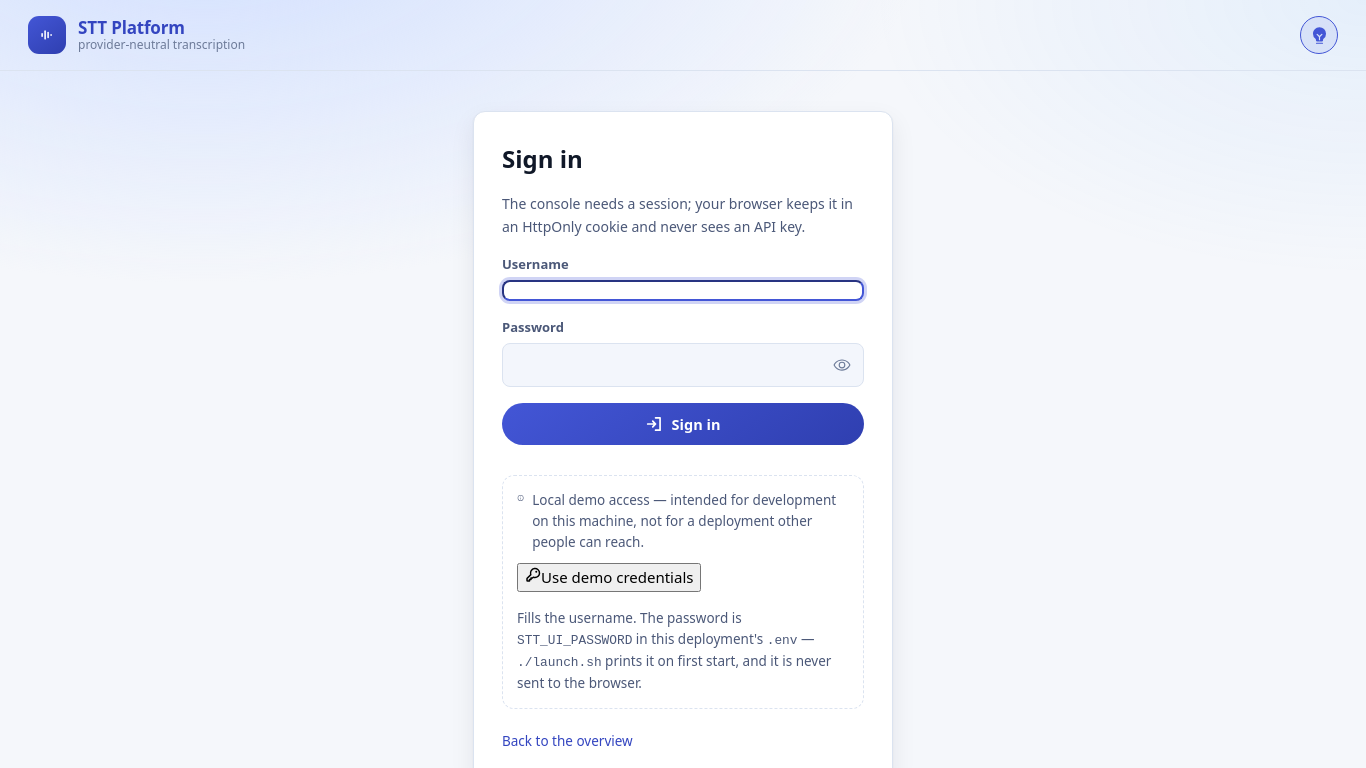
Scenario: a generated password is never filled — the panel says where it lives
Click the button "Use demo credentials" at (609, 577), box [517,563,702,592]
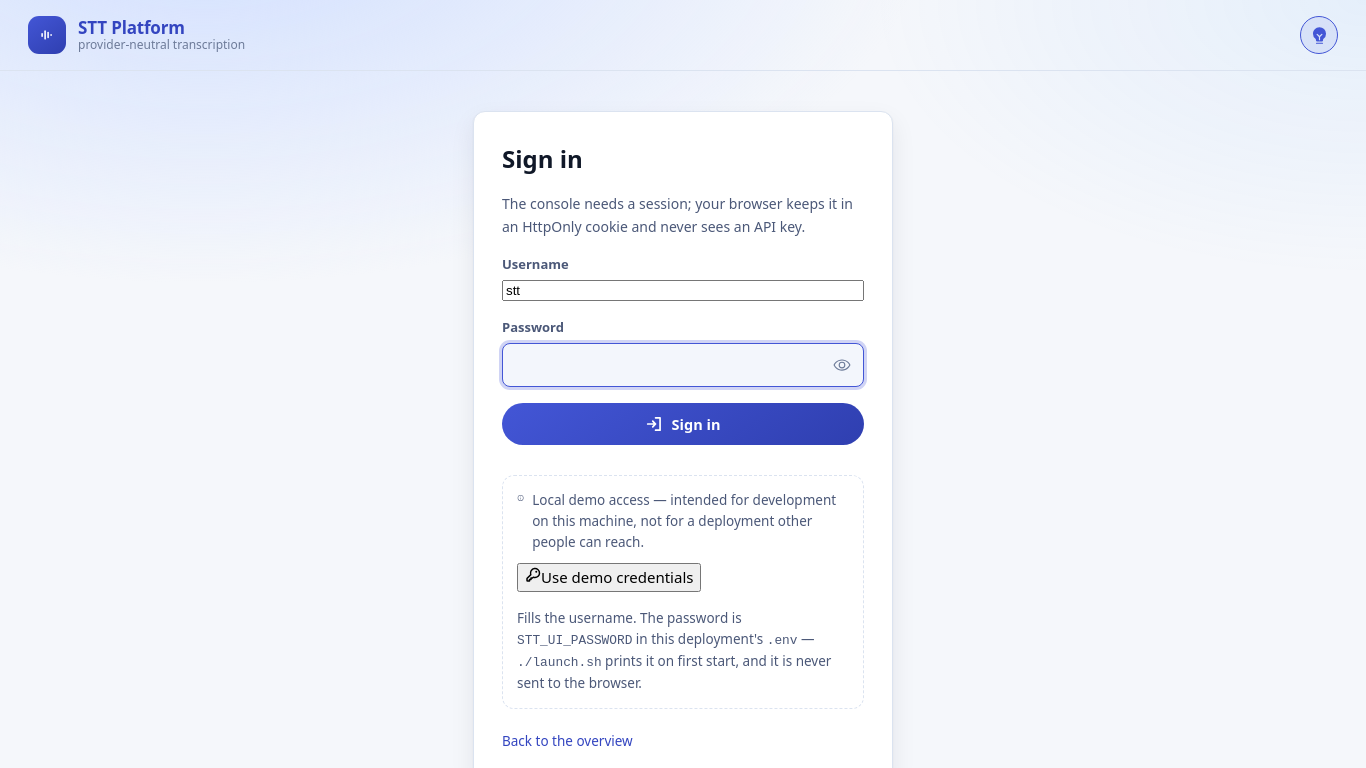
Expected: the password field labelled "Password" is empty, [502,343,864,387]
Expected: the field labelled "Username" holds "stt", [502,280,864,301]
